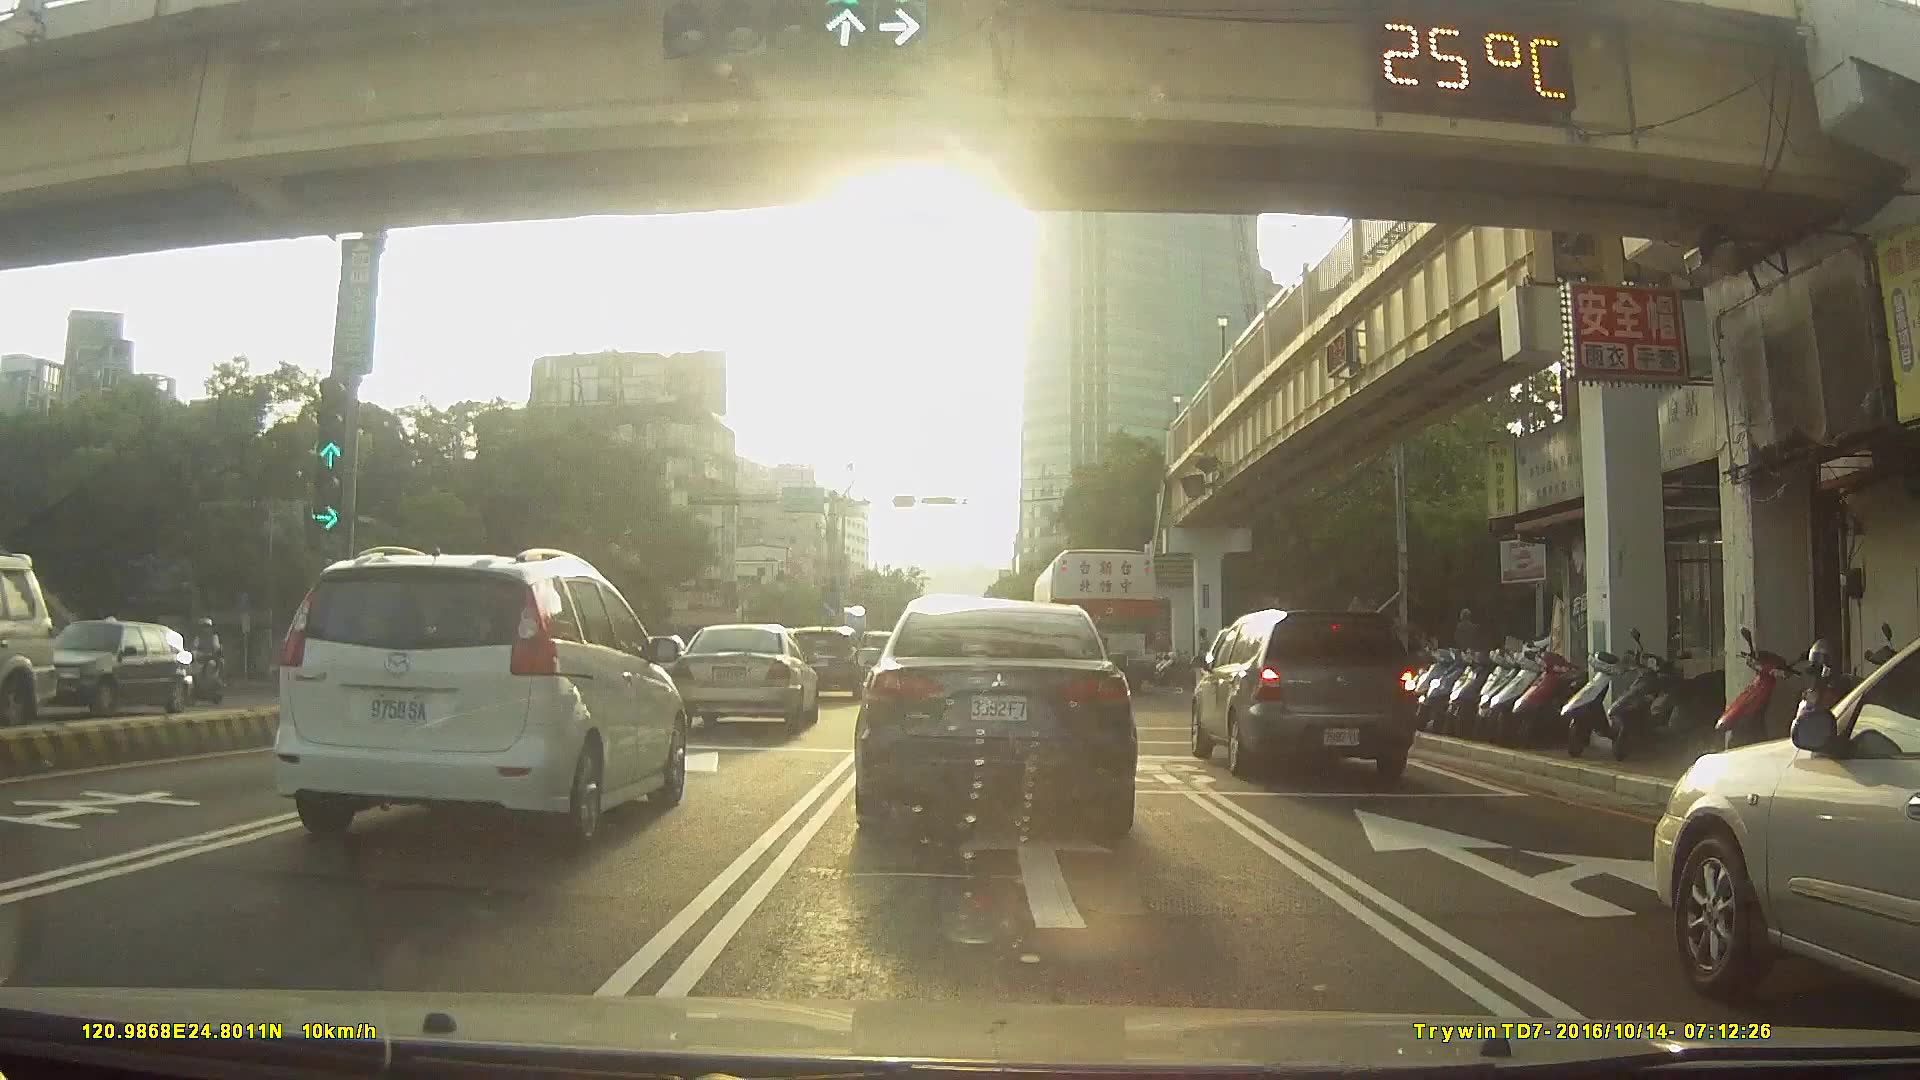pedestrian: (1205, 619, 1232, 682)
rider: (179, 615, 228, 707)
vehicle: (271, 540, 691, 849), (1646, 635, 1920, 1006), (851, 590, 1135, 843), (1193, 603, 1420, 778), (1030, 543, 1158, 689), (31, 617, 196, 724), (673, 617, 818, 728), (1, 548, 71, 732), (779, 622, 864, 696), (638, 633, 691, 677)
